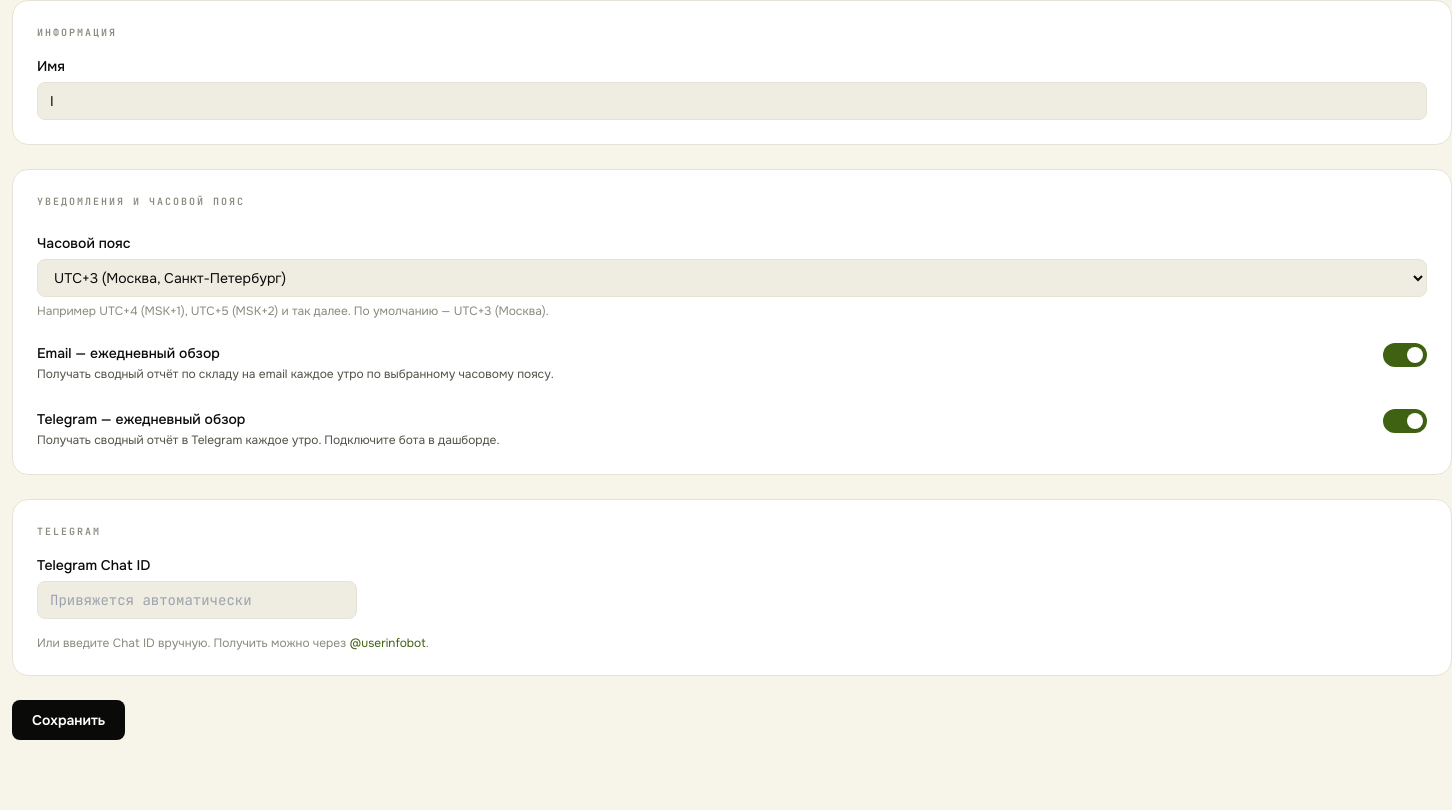
Scenario: SettingsForm — handleSubmit extra › ошибка — текст ошибки с message
Click the button "Сохранить".
click(69, 720)  # box [12,700,125,740]
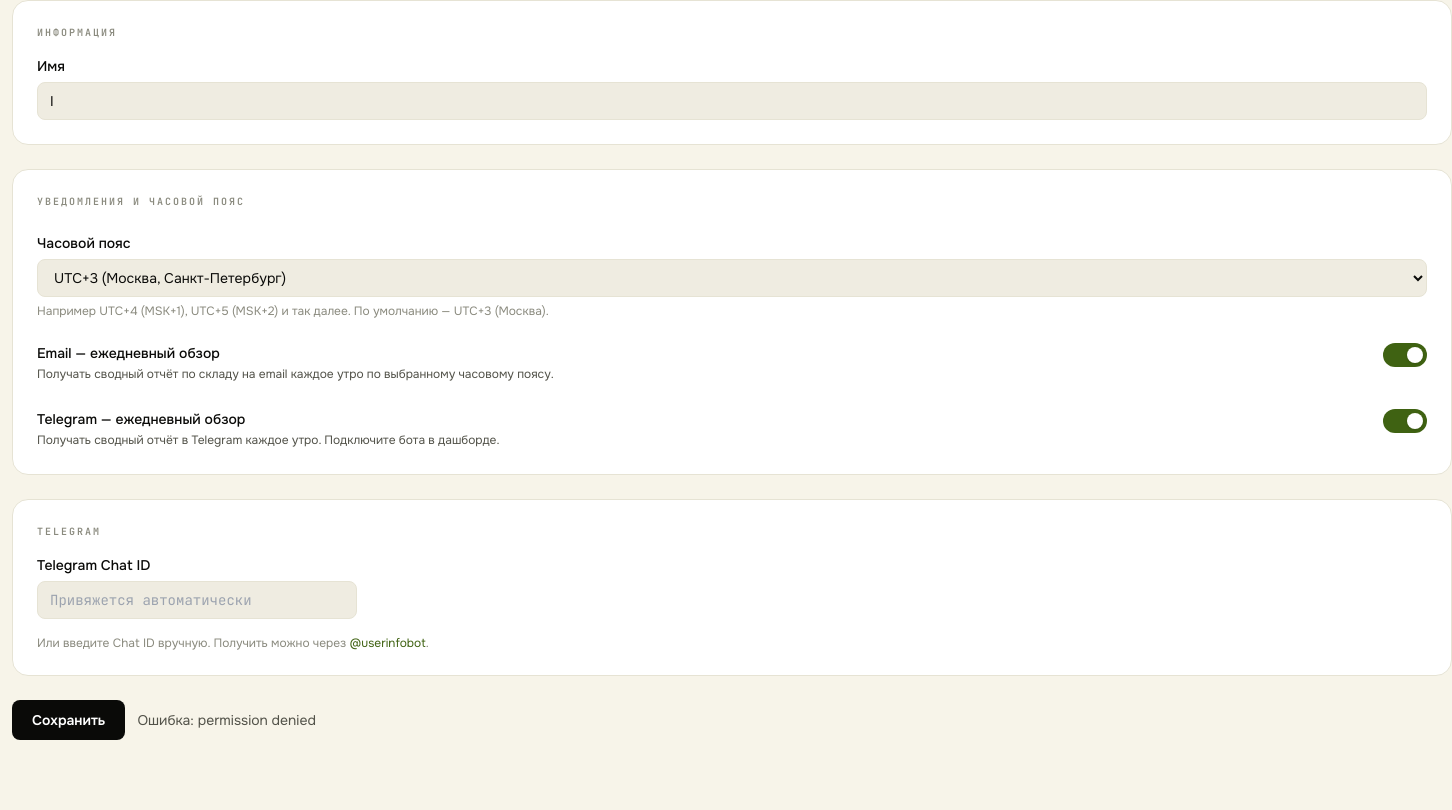
Check: the text "Ошибка: permission denied" is shown, box [137,710,316,730]
